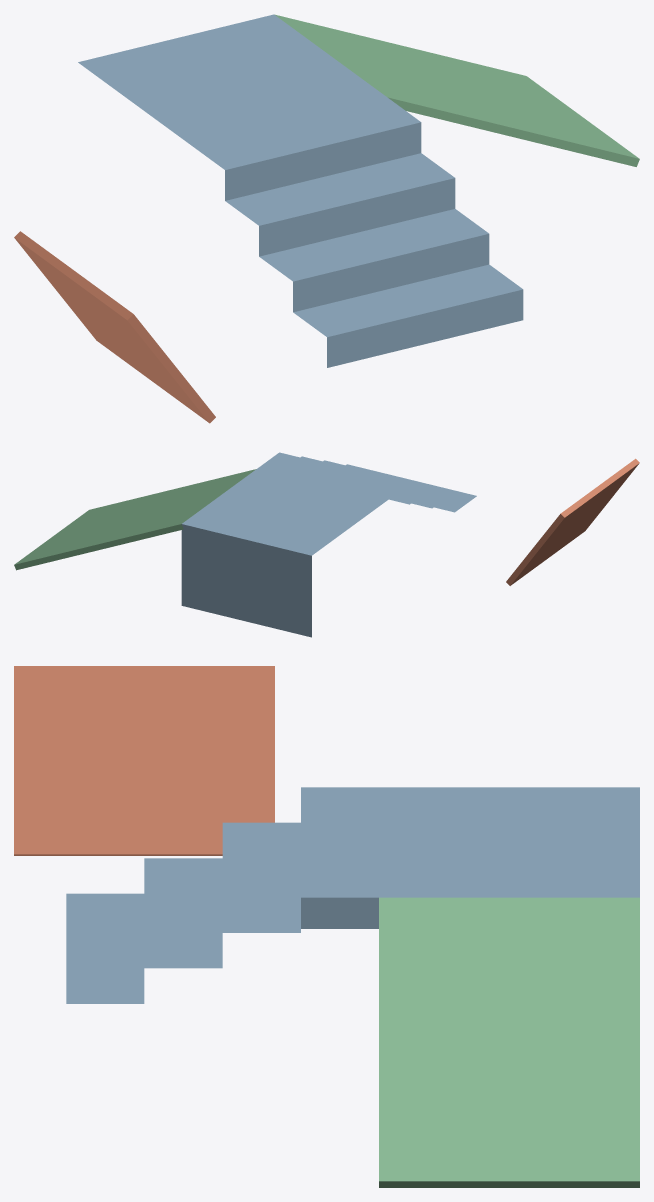
File: course.gltf
3 renders of one model, top to bottom at view 1: azimuth 30°, elevation 25°; view 2: azimuth 150°, elevation 25°; view 3: azimuth 270°, elevation 25°, orthographic. The views are drawn at different scales.
Parts seen in each view (by area): view 1: StepsAndPlatform, GentleRamp, SteepRamp; view 2: StepsAndPlatform, GentleRamp, SteepRamp; view 3: GentleRamp, StepsAndPlatform, SteepRamp.
Part boxes in pixels (x1=…): StepsAndPlatform: x1=78, y1=14, x2=523, y2=367; GentleRamp: x1=274, y1=14, x2=639, y2=166; SteepRamp: x1=14, y1=231, x2=215, y2=423; StepsAndPlatform: x1=181, y1=452, x2=476, y2=637; GentleRamp: x1=14, y1=469, x2=256, y2=570; SteepRamp: x1=506, y1=458, x2=639, y2=585; GentleRamp: x1=379, y1=897, x2=639, y2=1187; StepsAndPlatform: x1=66, y1=787, x2=639, y2=1003; SteepRamp: x1=14, y1=666, x2=274, y2=855.
Size of the model in its own units: 3.42 by 0.6363 by 2.4.
